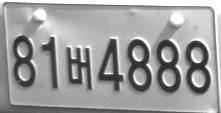1: (39, 35, 63, 88)
4: (97, 38, 123, 91)
8: (184, 39, 211, 94), (126, 38, 152, 93), (156, 38, 182, 93), (11, 34, 36, 87)
버: (65, 46, 93, 90)
